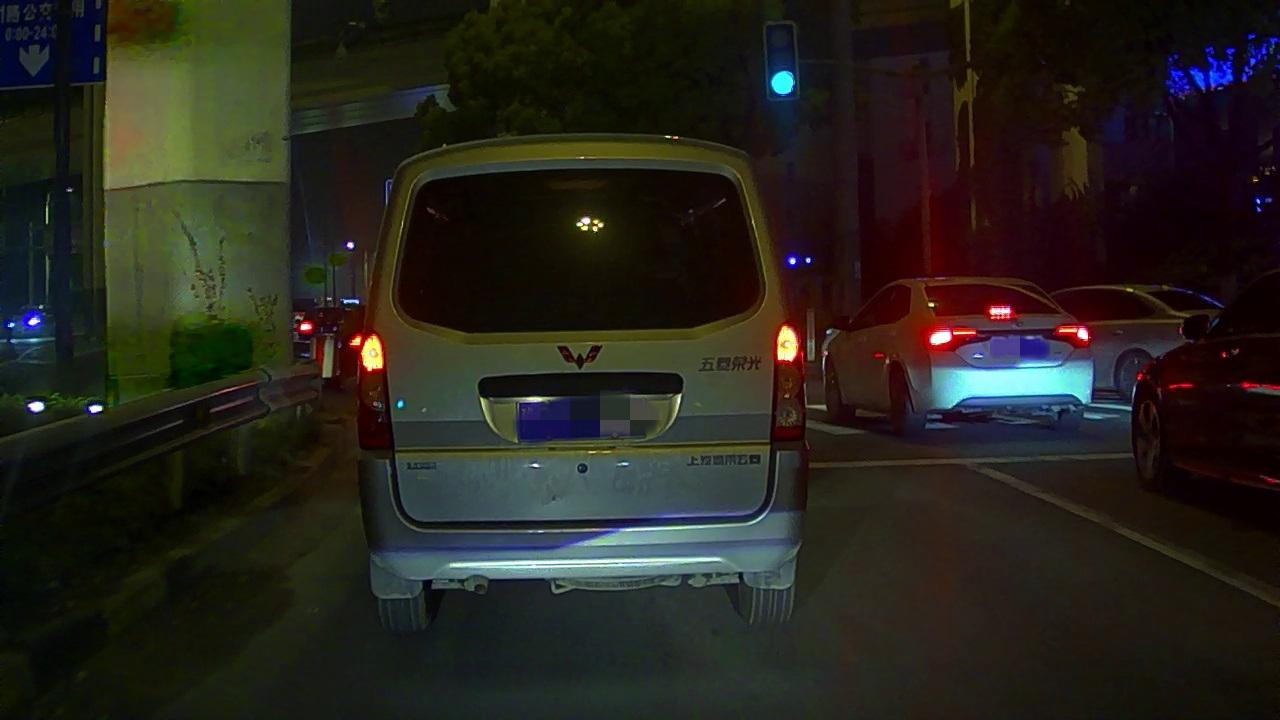traffic_light: (766, 19, 798, 99)
